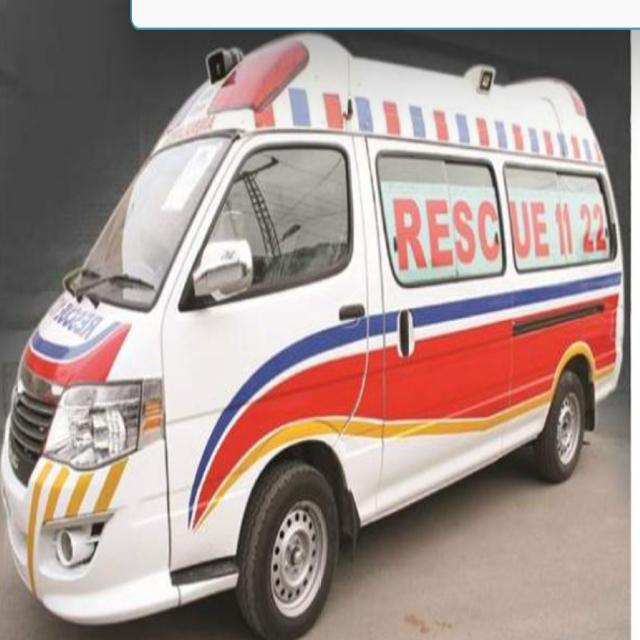ambulance: (15, 54, 627, 567)
